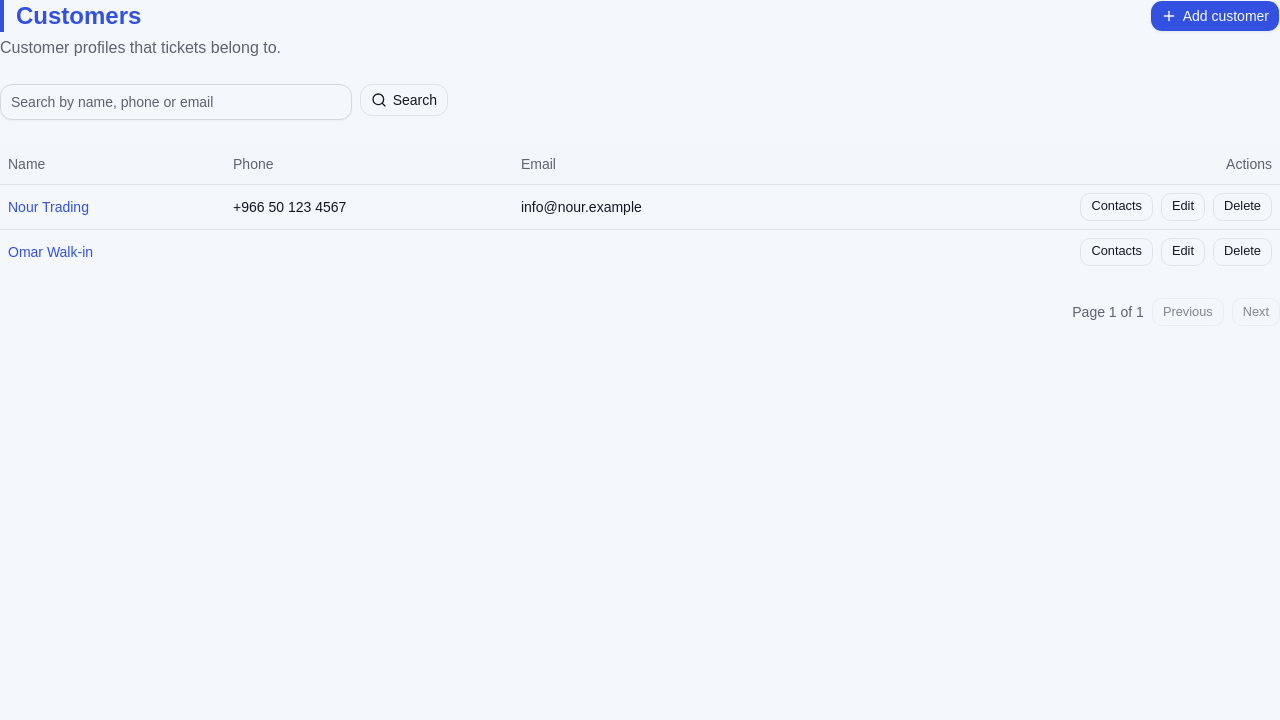
Test case: CustomersPage › shows the server message next to the field when the API answers 400
This screenshot has width=1280, height=720.
Click the button "Add customer": (1215, 16) [1150, 0, 1279, 32]
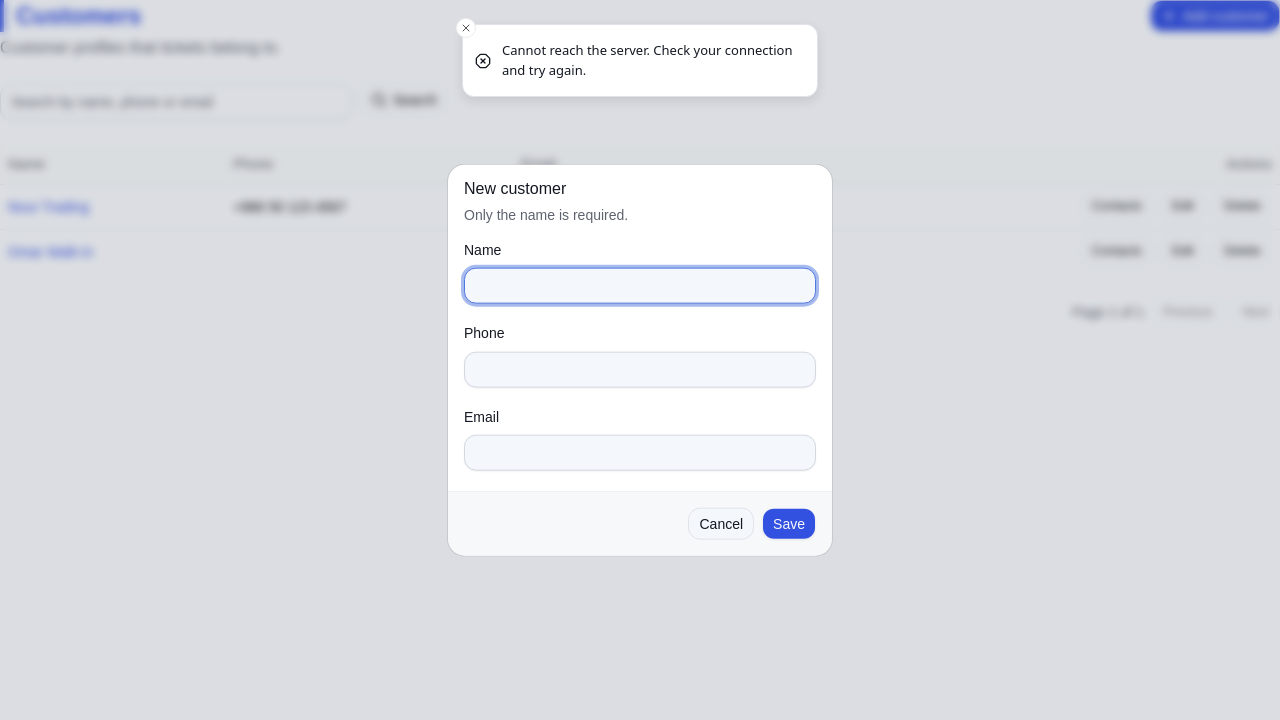
In the field labelled "Name": (640, 286) [464, 268, 816, 304], type "Nour"
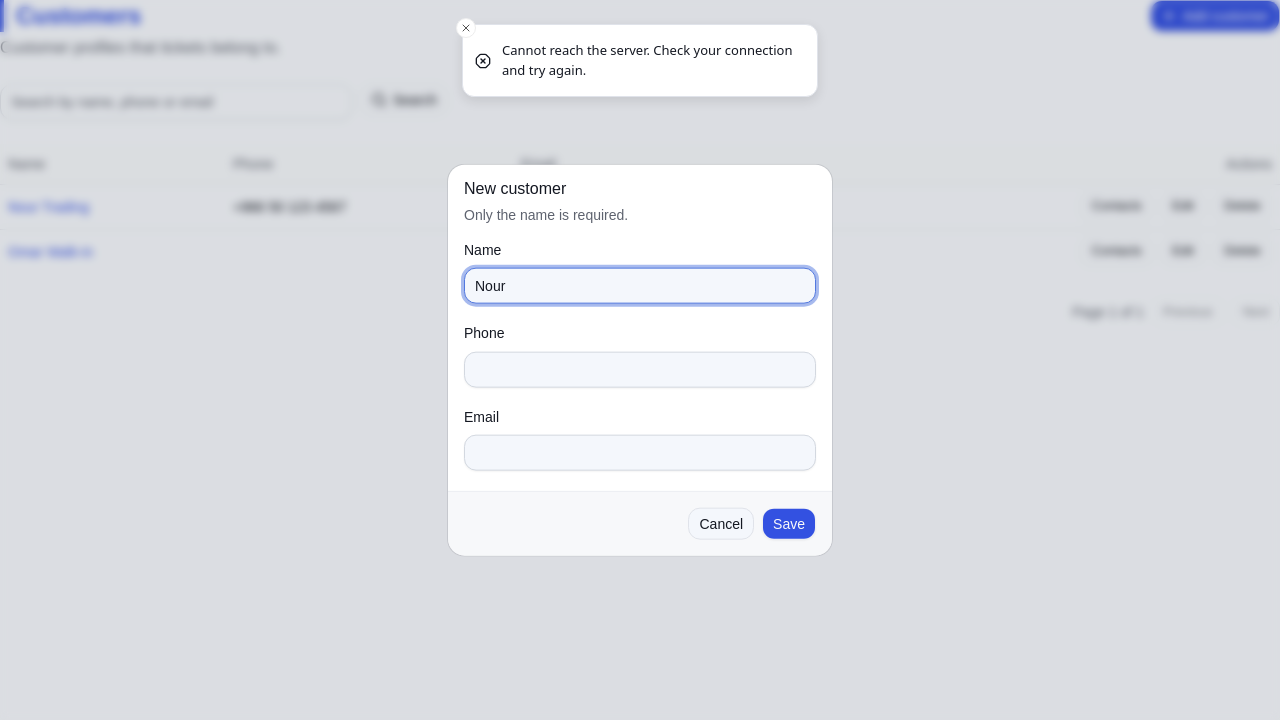
Click the button "Save": (789, 523) [762, 507, 816, 539]
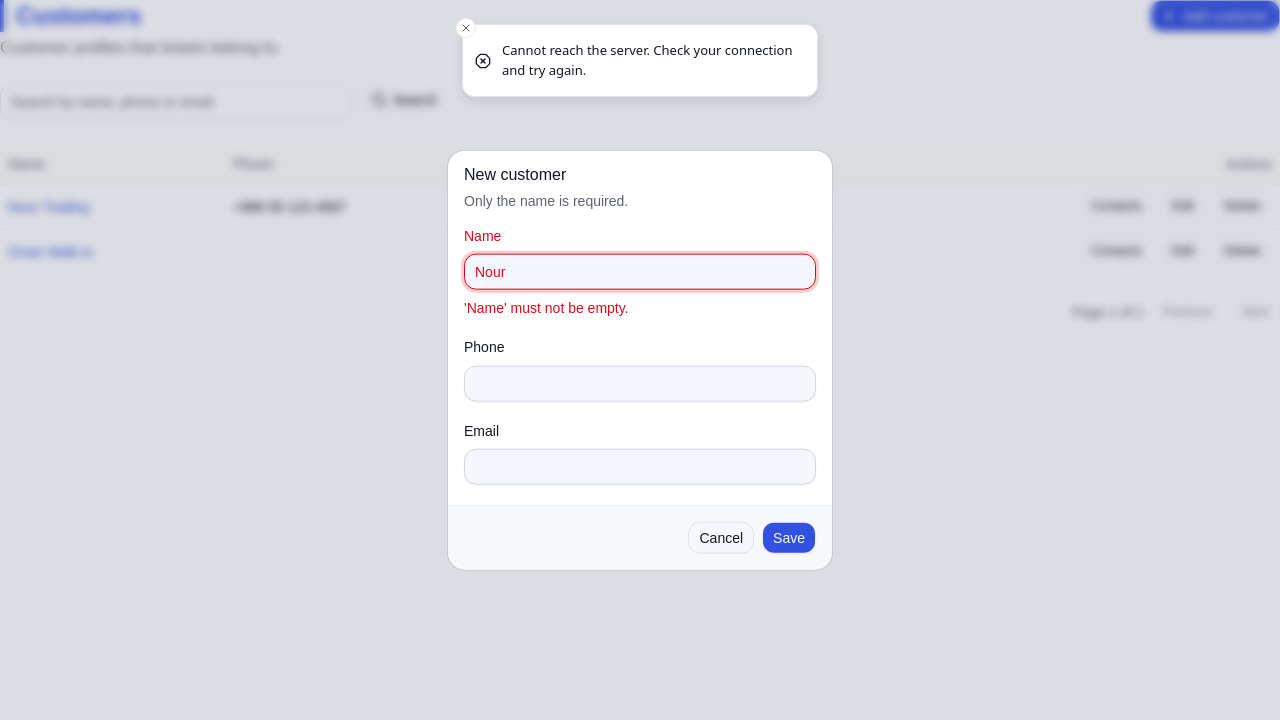
expect the text "'Name' must not be empty." is shown: met, box [464, 300, 629, 316]
